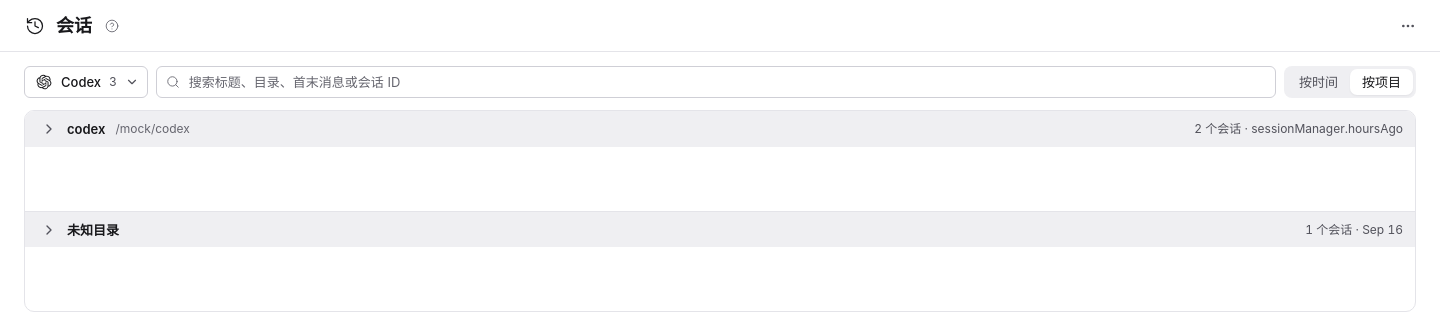
it: SessionManagerPage › opens collapsed groups while searching
Expected: the button "codex /mock/ codex" is shown, [35, 115, 198, 143]
Expected: the text "Alpha Session" is not shown
Step 1. Type "Alpha" into the field named "搜索会话" → (716, 82), box [156, 66, 1276, 98]
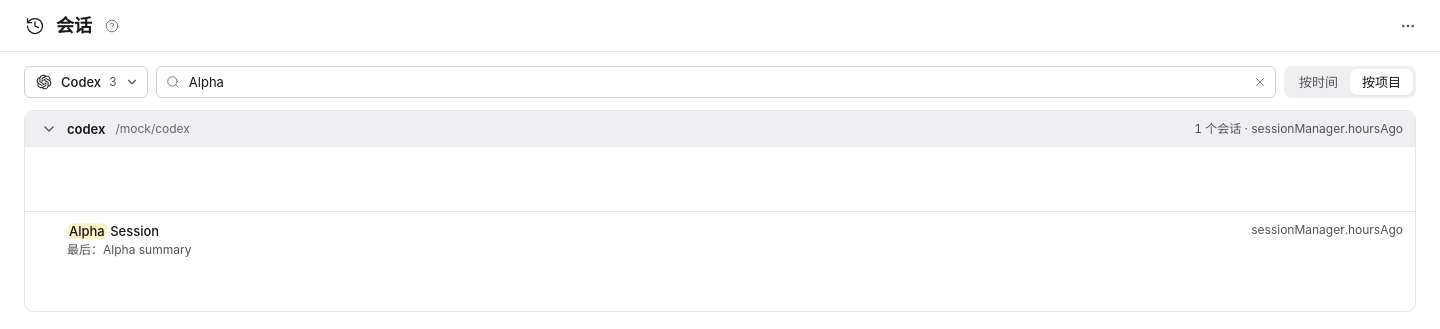
Now the text "Alpha" is shown, box [67, 222, 107, 238]
